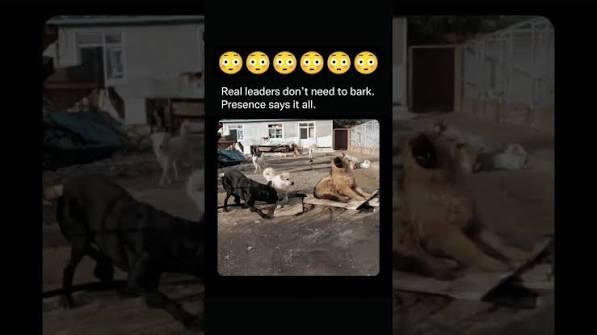adult_dog: (54, 171, 205, 333), (394, 120, 515, 280), (150, 123, 204, 190), (222, 170, 282, 218), (313, 152, 360, 205), (245, 148, 265, 178)
puppy-dog: (478, 144, 531, 173), (274, 174, 295, 193), (263, 166, 279, 185)
